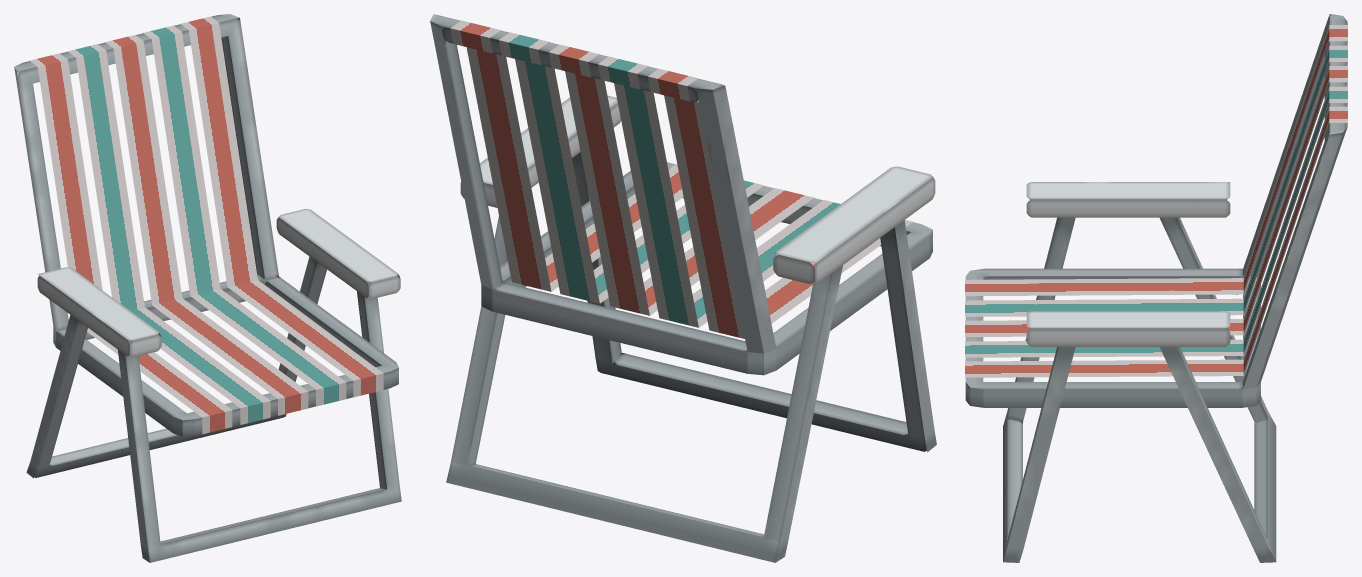
The model's file is OutdoorChair.fbx.
3 renders of one model, left to right at view 1: azimuth 30°, elevation 25°; view 2: azimuth 150°, elevation 25°; view 3: azimuth 270°, elevation 25°, orthographic. The views are drawn at different scales.
Parts seen in each view (by area): view 1: ChairBacking, ChairBase; view 2: ChairBase, ChairBacking; view 3: ChairBase, ChairBacking.
Part boxes in pixels (box(x1,y1,x2,y2)): ChairBacking: box(29, 16, 383, 434); ChairBase: box(14, 14, 401, 562); ChairBase: box(430, 14, 936, 562); ChairBacking: box(450, 20, 913, 338); ChairBase: box(965, 14, 1347, 562); ChairBacking: box(965, 25, 1347, 377).
Size of the model in its own units: 106 by 142 by 117.
Materials: 2 (2 with a texture image).
